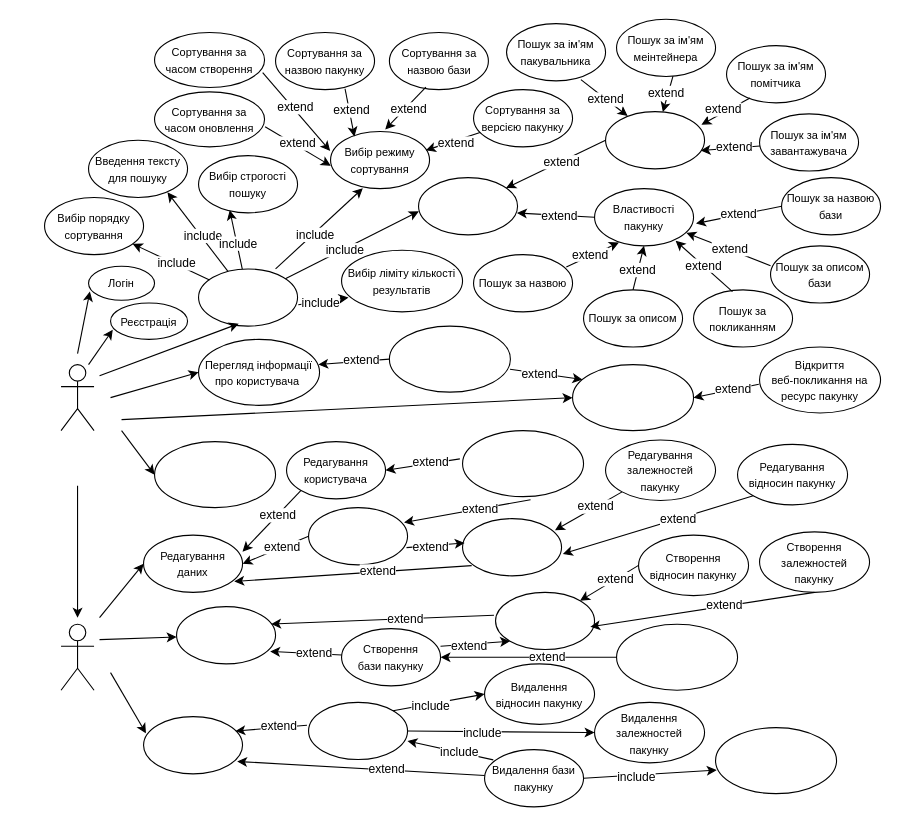
Some shapes in this 900 by 826 pixel diagram are drawn without their labels. Here are the shapes that lost their labels. From the top down, the centre of each, then its label:
(654,140): Пошук за користувачем
(467,206): Вибір режиму пошуку
(247,297): Пошук пакунків
(449,358): Перегляд інформації про базу пакунку
(77,397): Будь-який К ористувач
(632,397): Перегляд інформації про пакунок
(214,474): Перегляд статистики репозиторію
(522,463): Редагування ролей користувачів
(357,536): Редагування бази пакунку
(511,547): Редагування пакунку
(225,635): Додаваня даних
(544,620): Створення пакунку
(77,656): Автентифікований К ористувач
(676,656): Призначення ролей користувачам
(192,745): Видалення даних
(357,730): Видалення пакунку
(775,760): Видалення ролей користувачів
